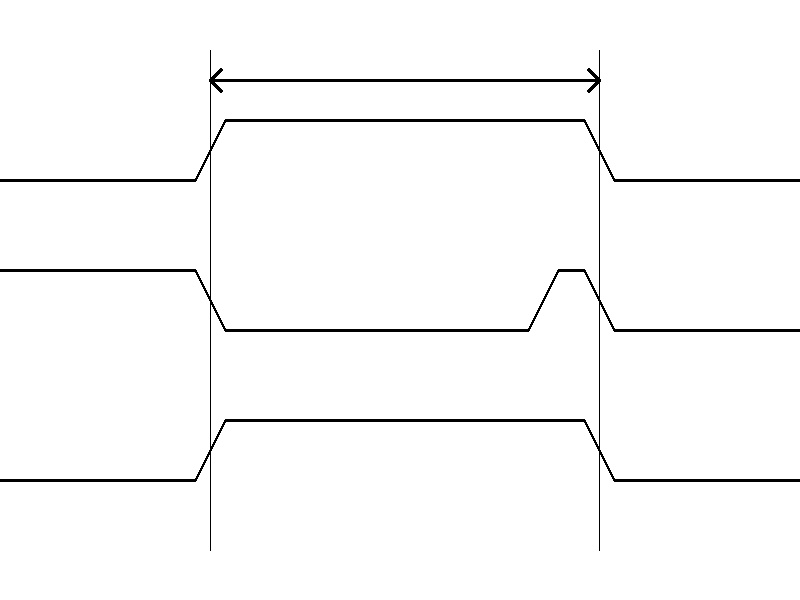double_arrow: (210, 65, 599, 95)
